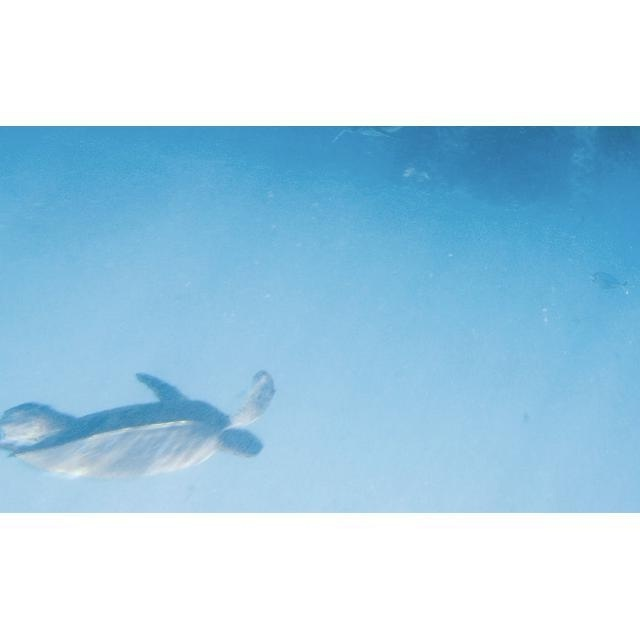turtle: (2, 370, 278, 479)
